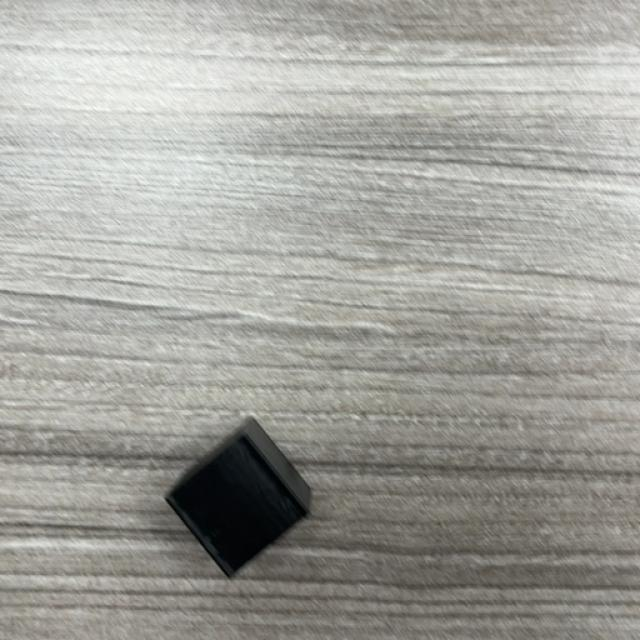Negro: (164, 418, 312, 580)
